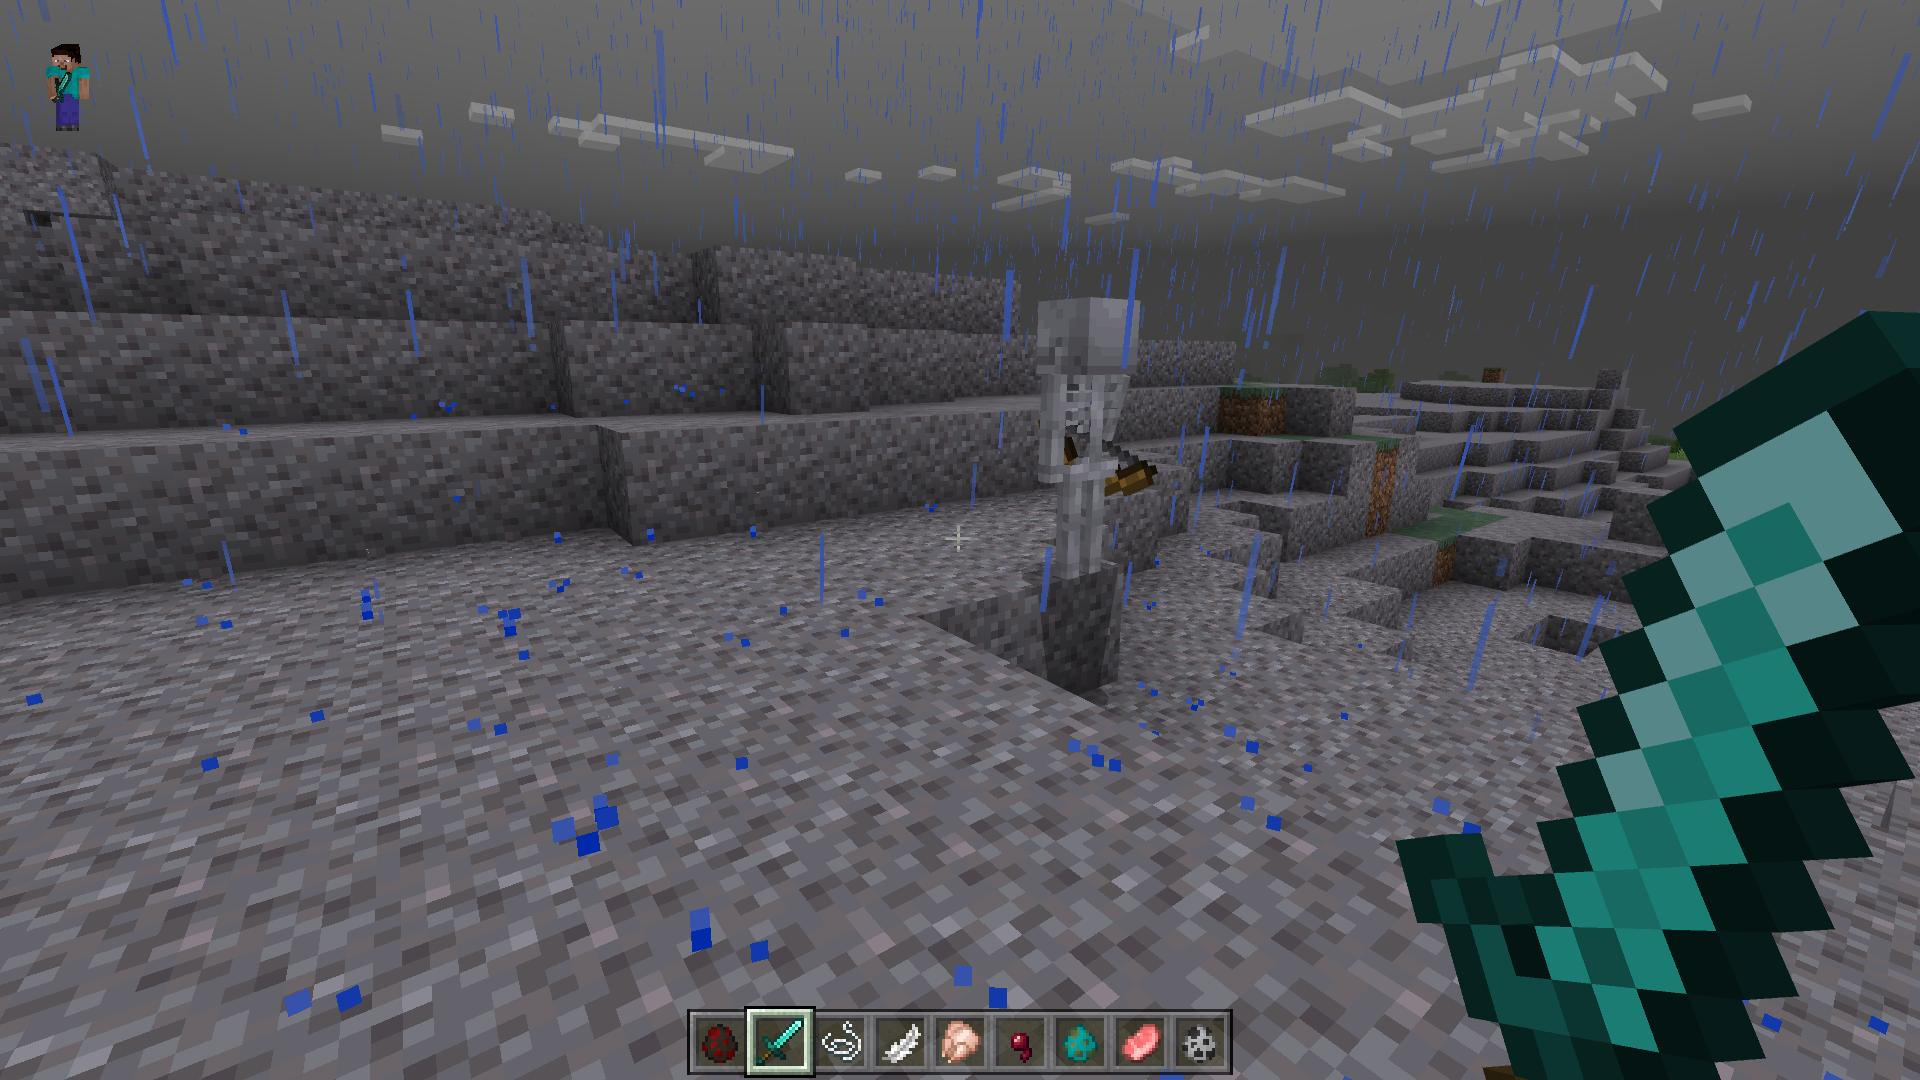skeleton: (1031, 293, 1160, 583)
